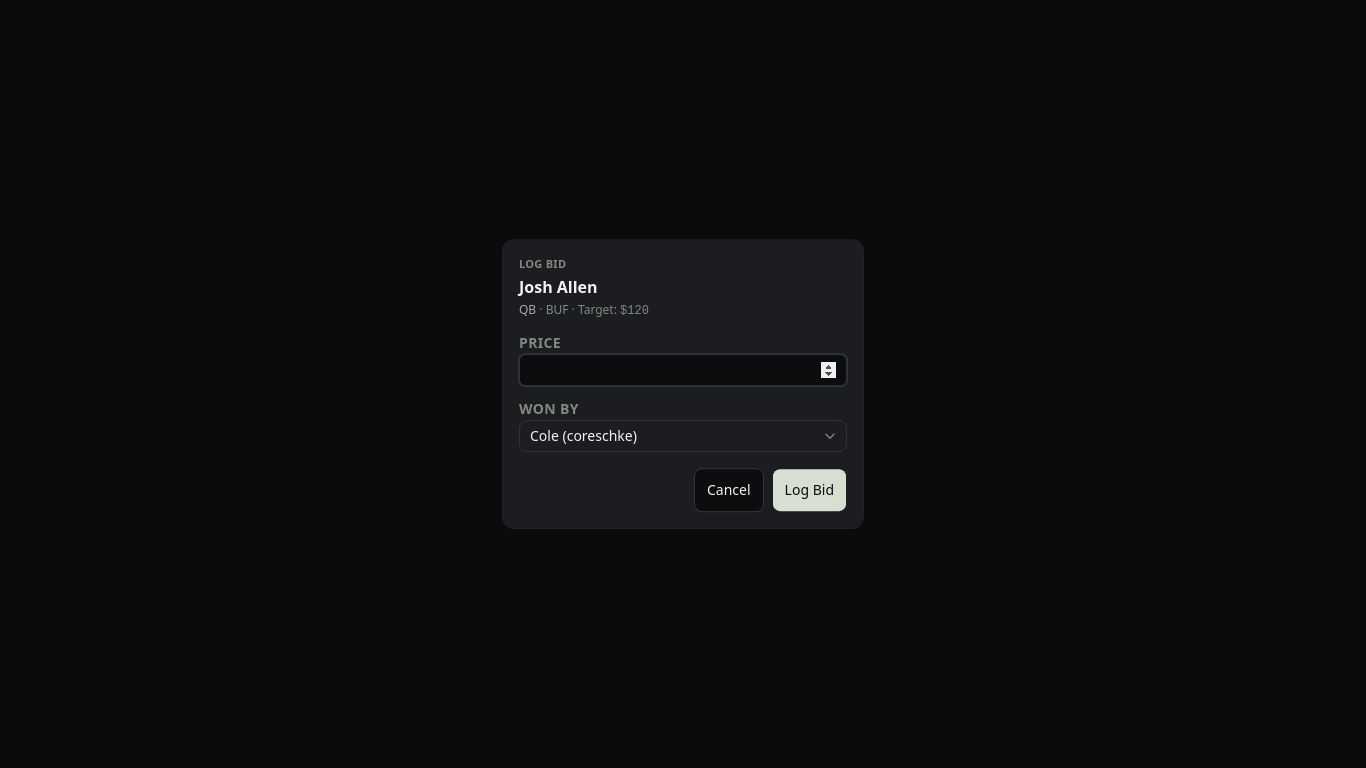
Test: BidModal — team select › opens the Won By select and lists both teams as options
Click the dropdown named "won by" at (583, 435), box [519,420,847,452]
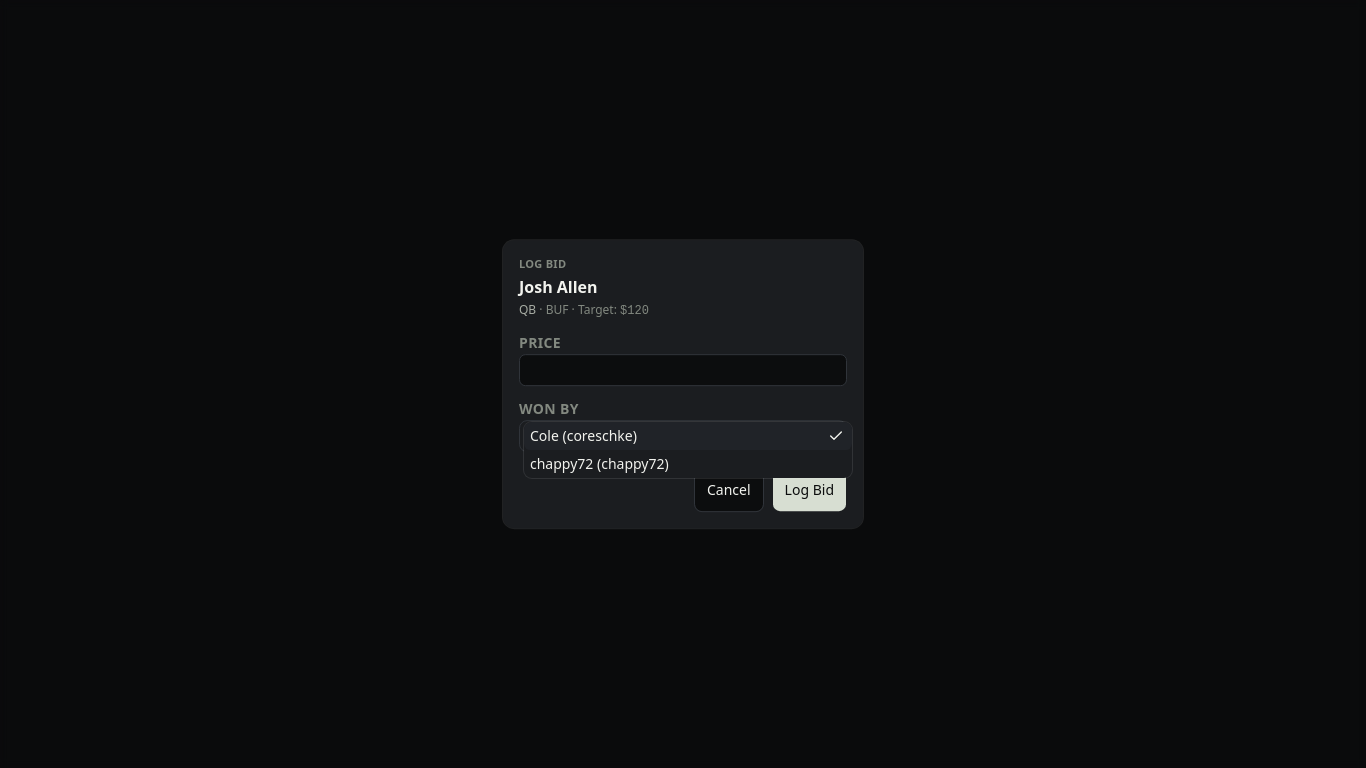
Result: the dropdown named "won by" is expanded at [519,420,847,452]
Result: the option "Cole (coreschke)" is shown at [524,422,852,450]
Result: the option "chappy72 (chappy72)" is shown at [530,454,669,473]
